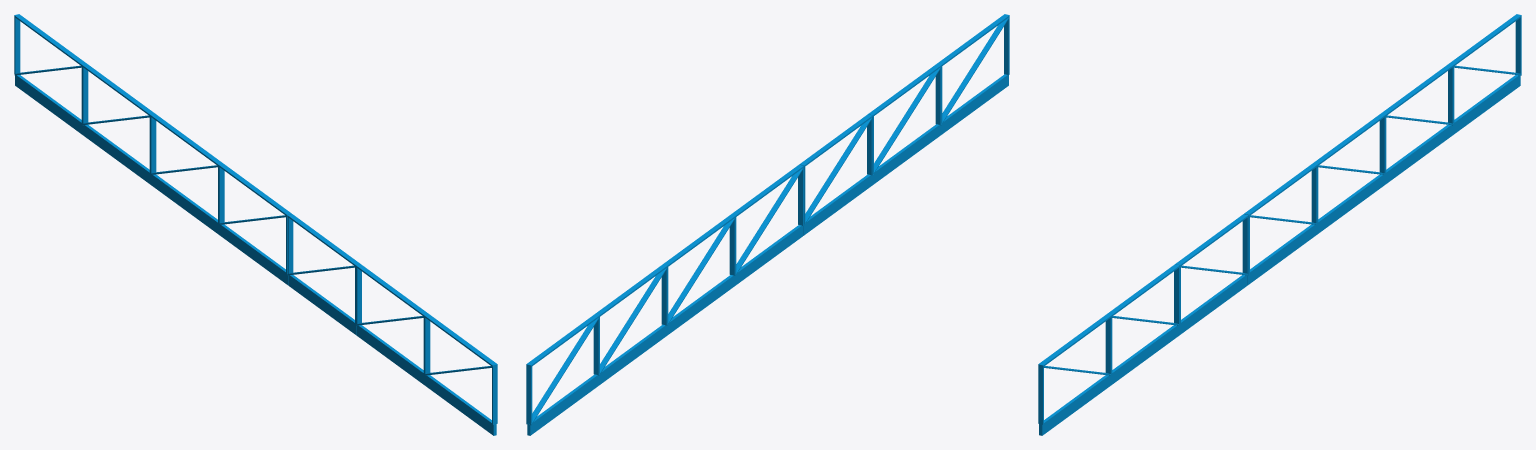
The model's file is Metal_Floor_Rail_x7.fbx.
3 renders of one model, left to right at view 1: azimuth 30°, elevation 25°; view 2: azimuth 150°, elevation 25°; view 3: azimuth 330°, elevation 25°, orthographic.
Visible parts, largest first — view 1: Metal_Floor_Rail_x7; view 2: Metal_Floor_Rail_x7; view 3: Metal_Floor_Rail_x7.
Boxes of the visible parts, x1,y1,x2,y2 form: Metal_Floor_Rail_x7: [14, 14, 497, 435]; Metal_Floor_Rail_x7: [526, 14, 1009, 435]; Metal_Floor_Rail_x7: [1038, 14, 1521, 435].
Size of the model in its own units: 6.41 by 85.47 by 1048.
